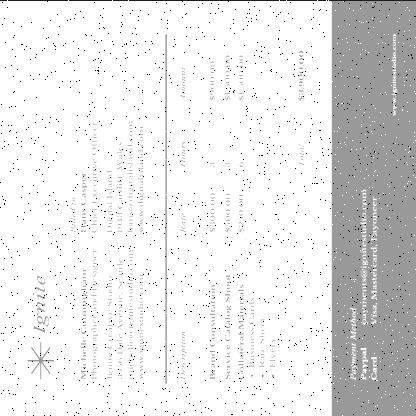Paragraph: (348, 182, 384, 384), (104, 246, 147, 383), (104, 118, 148, 235), (66, 116, 100, 236), (78, 244, 100, 382), (28, 267, 53, 339), (295, 44, 308, 172), (388, 29, 400, 119)
Table: (166, 32, 286, 384)
